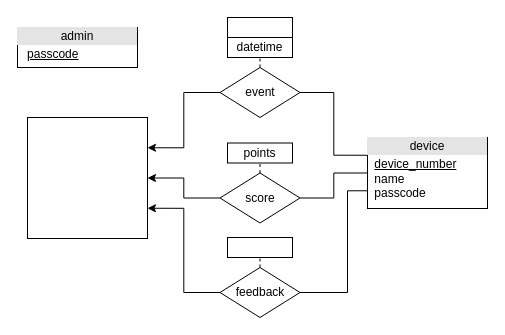
This 505x335 diagram has some shape labels left out. The centre of each missing label's shape, as x and y in pixels:
"action" goes at [259,27].
"comment" goes at [259,247].
"session ID name start_date start_time end_date end_time" goes at [87,177].
